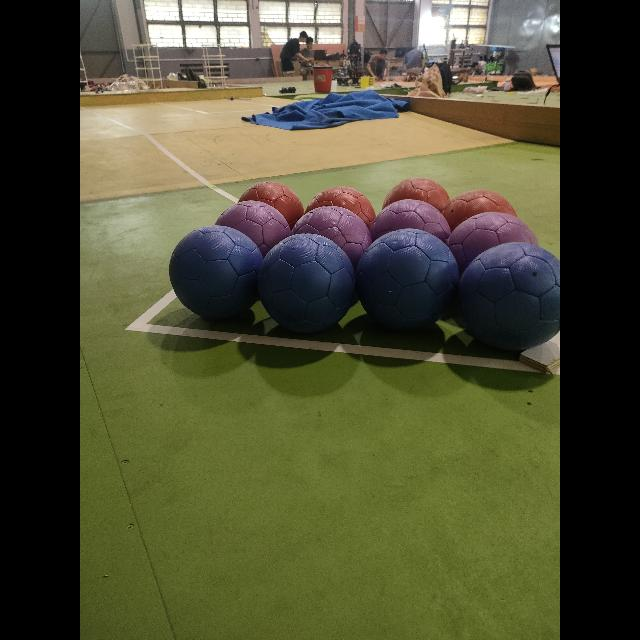B: (456, 242, 560, 350), (356, 230, 458, 330), (258, 234, 356, 332), (170, 225, 262, 318)
P: (448, 211, 538, 275), (292, 205, 372, 269), (216, 200, 290, 258), (371, 199, 452, 245)
R: (442, 190, 518, 232), (239, 182, 303, 228), (306, 186, 376, 228), (384, 178, 451, 210)
S: (128, 41, 164, 95), (200, 40, 230, 89), (80, 46, 92, 94)
